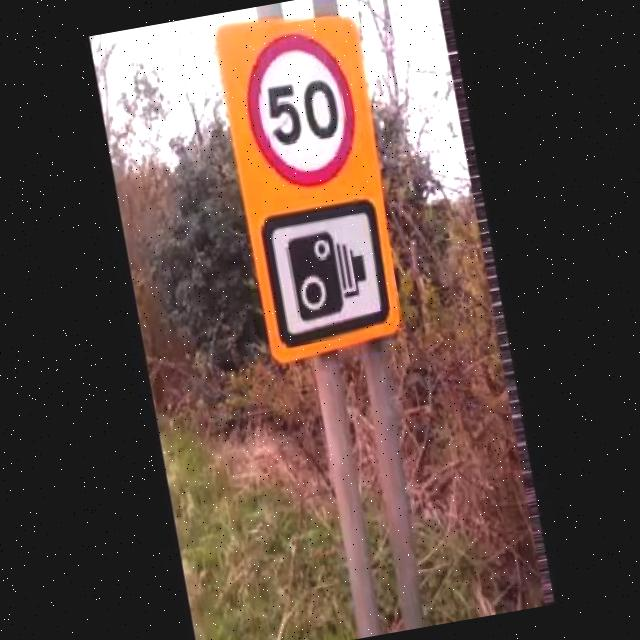Ograniczenie predkosci do 50: (238, 28, 364, 197)
